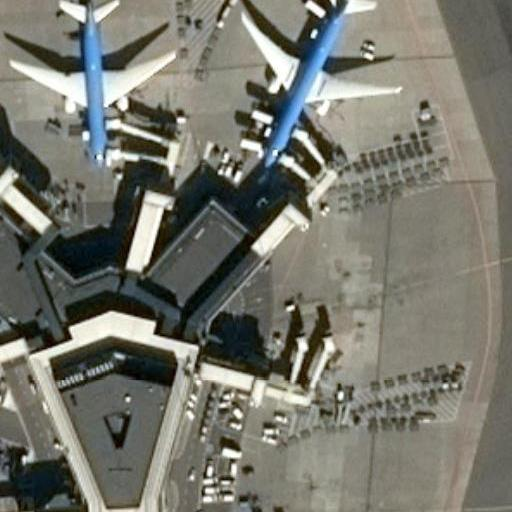Aircraft: (223, 0, 407, 170), (6, 0, 177, 166)
